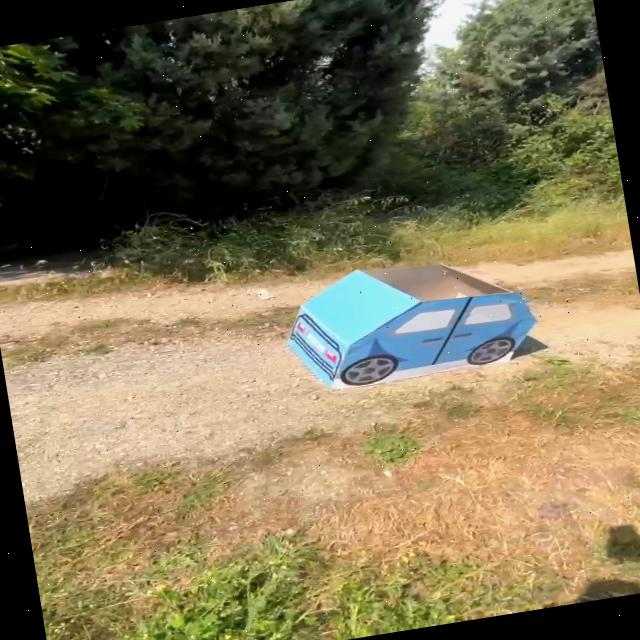blue_car: (260, 234, 565, 413)
